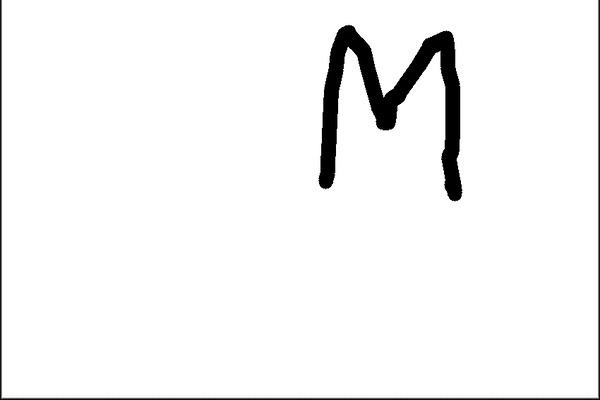M: (313, 22, 465, 202)
